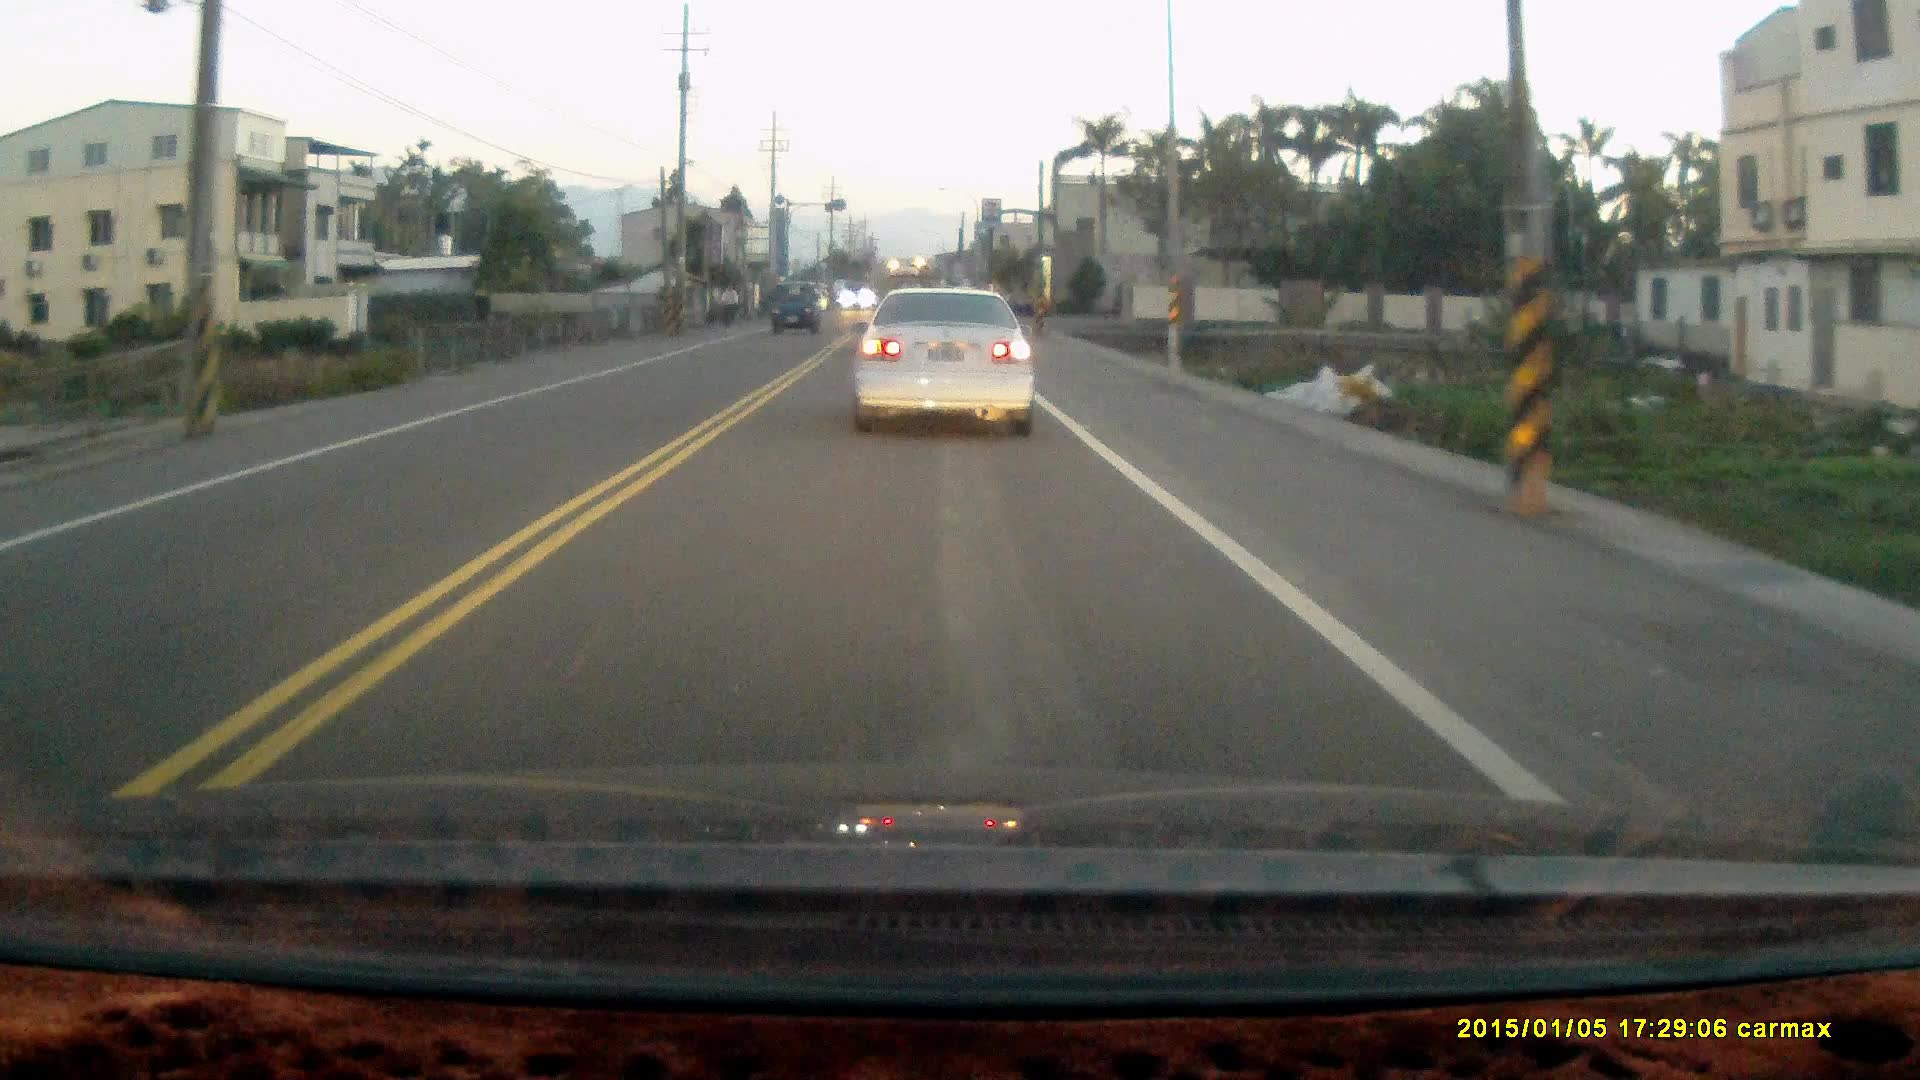rider: (718, 277, 740, 331)
vehicle: (854, 290, 1043, 431), (769, 283, 825, 339)
